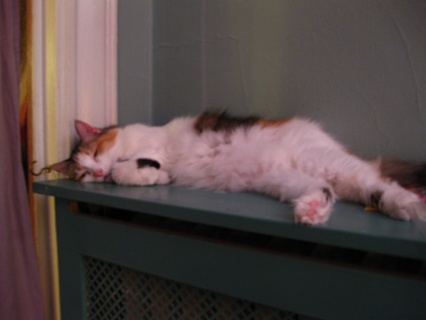Cat: (47, 104, 425, 225)
